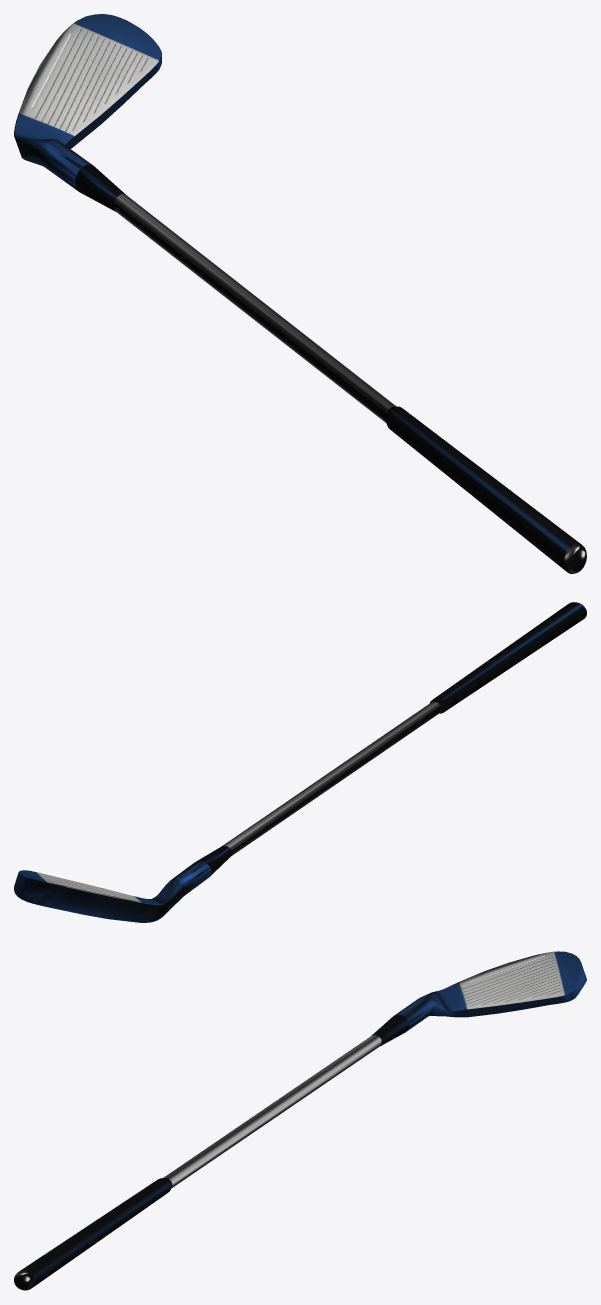
The model's file is GolfClub.fbx.
The picture shows the model from 3 angles, top to bottom: view 1: azimuth 30°, elevation 25°; view 2: azimuth 150°, elevation 25°; view 3: azimuth 330°, elevation 25°; orthographic projection. The views are drawn at different scales.
Visible parts, largest first — view 1: Material1-material-material; view 2: Material1-material-material; view 3: Material1-material-material.
Part boxes in pixels (x1,y1,x2,y2): Material1-material-material: [14, 14, 586, 573]; Material1-material-material: [14, 602, 586, 922]; Material1-material-material: [14, 951, 586, 1290].
Bounding box in the file's own units: 0.1036 × 0.0362 × 0.5638.
1 material, 1 textured.
